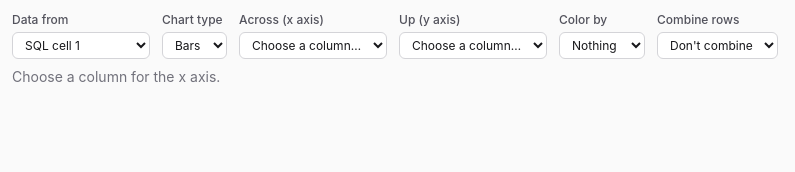
Scenario: ChartCellBody › says so when a change can't be stored, instead of silently ignoring it
This screenshot has width=795, height=172.
Step 1. Select "borough" in the dropdown labelled "Across (x axis)" → point(313, 46), box x1=239 y1=32 x2=387 y2=59
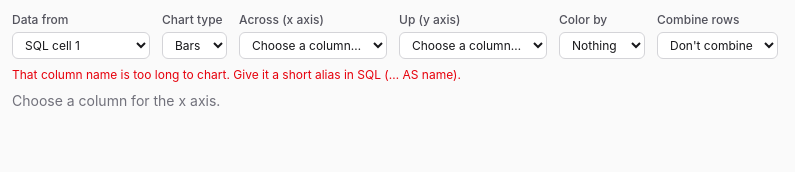
Expected: the message shows "Give it a short alias", x1=12 y1=67 x2=461 y2=82
